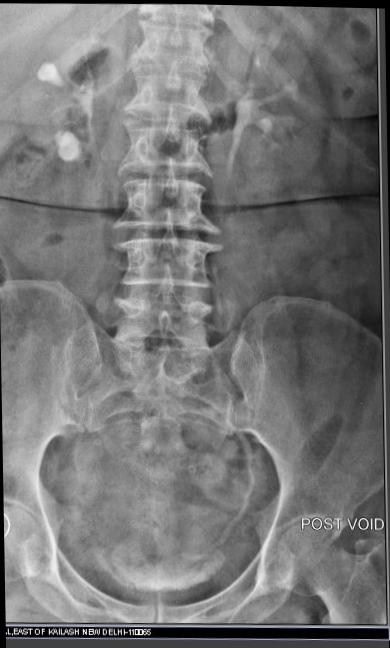bladder: (63, 475, 252, 606)
left kidney: (216, 20, 340, 204)
right kidney: (9, 1, 126, 190)
vertebrae: (124, 73, 216, 129)
